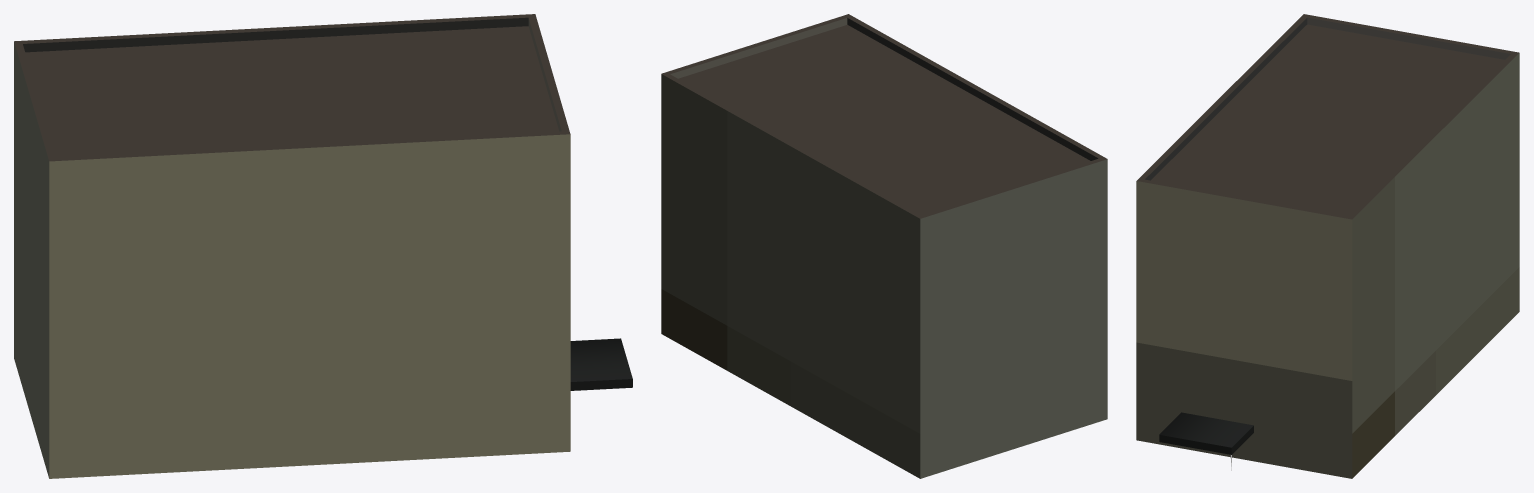
The model's file is the-times-building.glb.
3 renders of one model, left to right at view 1: azimuth 30°, elevation 25°; view 2: azimuth 150°, elevation 25°; view 3: azimuth 270°, elevation 25°, orthographic. The views are drawn at different scales.
Parts seen in each view (by area): view 1: LOD0; view 2: LOD0; view 3: LOD0.
Boxes of the visible parts, box(x1,y1,x2,y2) form: LOD0: box(14, 14, 632, 478); LOD0: box(661, 14, 1107, 478); LOD0: box(1136, 14, 1519, 478).
Size of what is drawn, in the model's own units: 39.66 by 22.8 by 30.53.
Materials: 1 (1 with a texture image).
